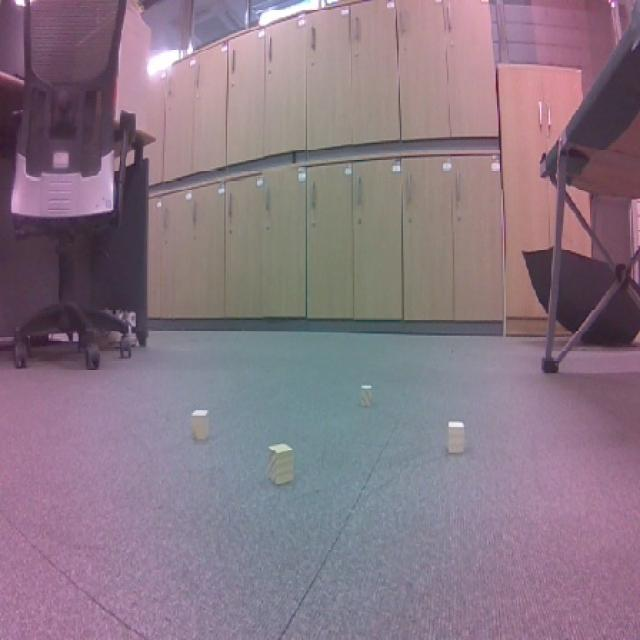obstacle: (262, 438, 298, 490), (185, 404, 219, 444), (441, 419, 470, 457)
